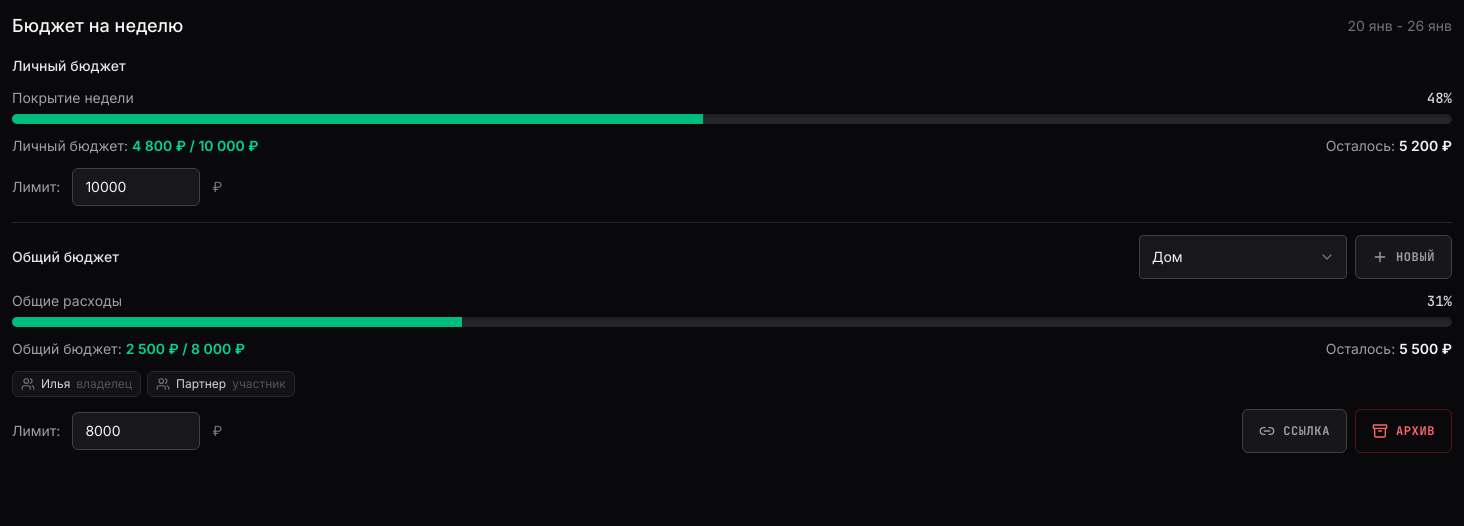
Test: WeeklyBudget › shared budgets › can open create form when shared budgets already exist
The width and height of the screenshot is (1464, 526).
Click the button "Новый" at (1404, 257), box [1355,235,1452,279]
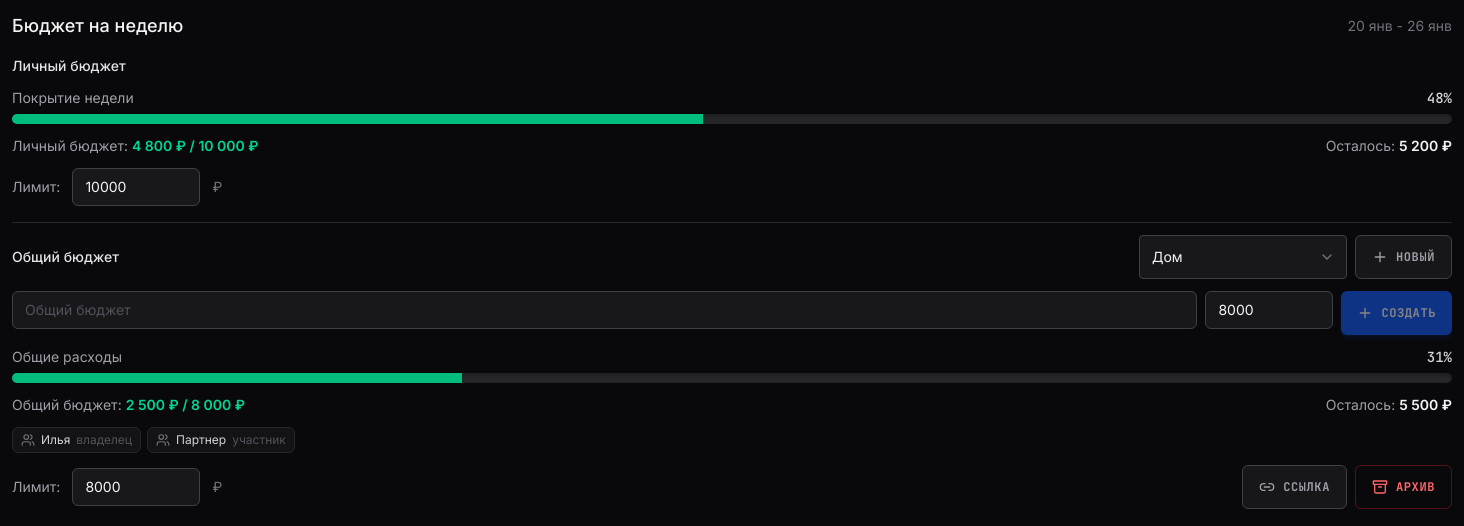
Expected: the field named "Название общего бюджета" is shown, [12,291,1197,329]
